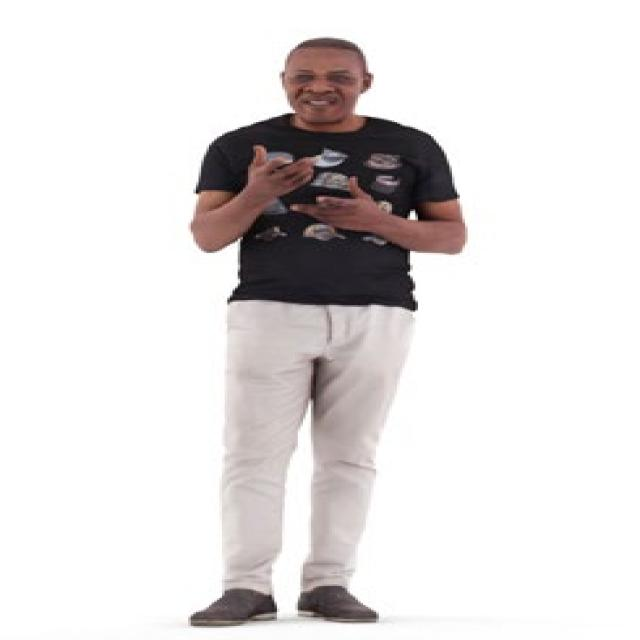standing: (174, 39, 468, 629)
